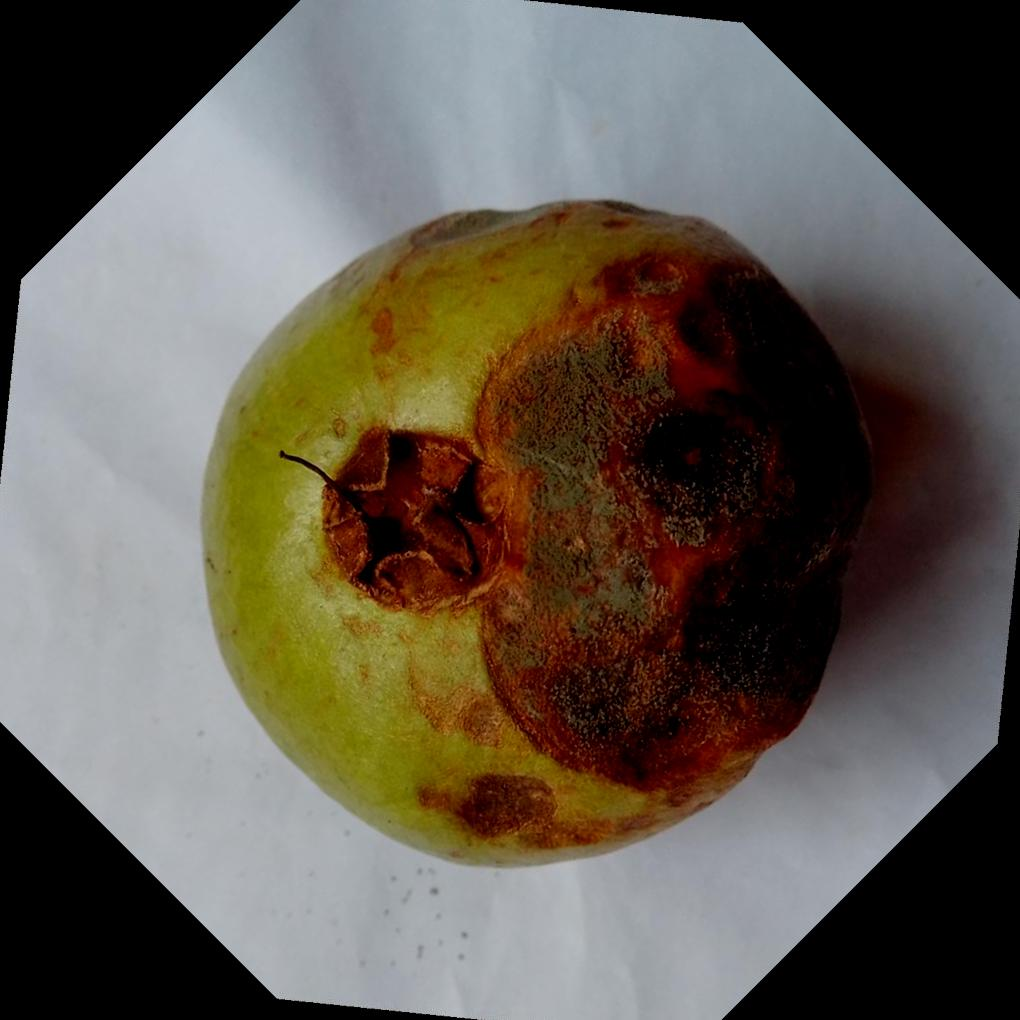FreshOrange: (202, 195, 879, 869)
